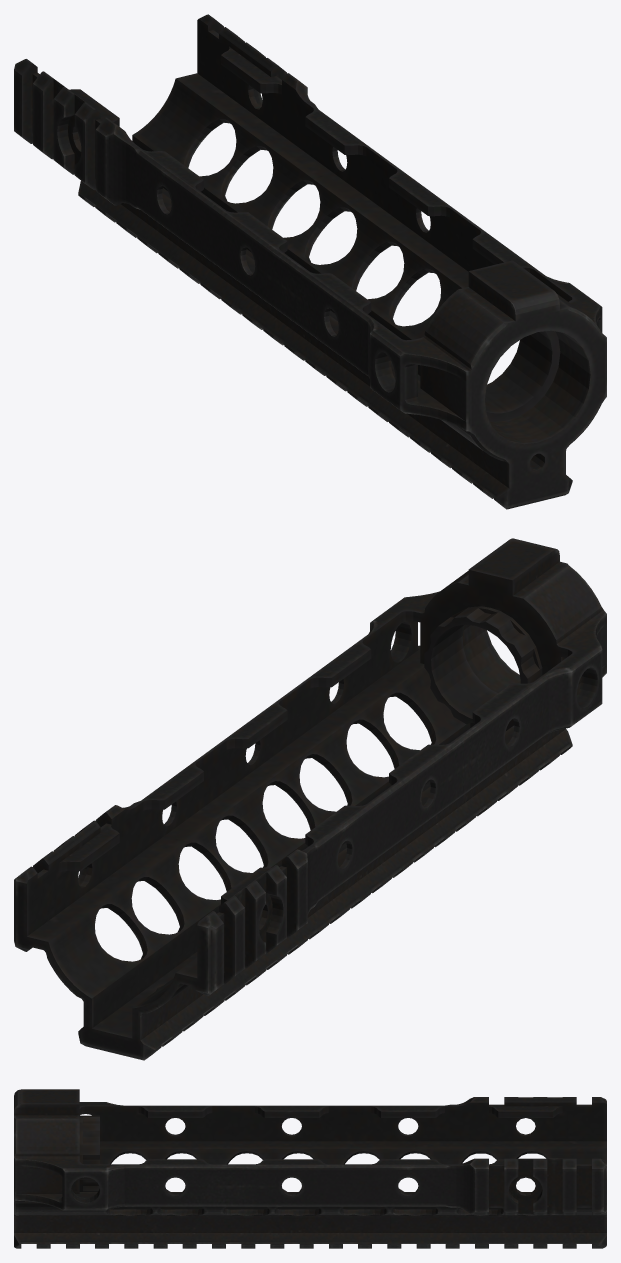
The picture shows the model from 3 angles, top to bottom: view 1: azimuth 30°, elevation 25°; view 2: azimuth 150°, elevation 25°; view 3: azimuth 270°, elevation 25°; orthographic projection. The views are drawn at different scales.
Parts seen in each view (by area): view 1: TW_5d123102d7ad1a004e475fe5_PZ_Import; view 2: TW_5d123102d7ad1a004e475fe5_PZ_Import; view 3: TW_5d123102d7ad1a004e475fe5_PZ_Import.
Boxes of the visible parts, bbox=[...] form: TW_5d123102d7ad1a004e475fe5_PZ_Import: bbox=[14, 14, 606, 509]; TW_5d123102d7ad1a004e475fe5_PZ_Import: bbox=[14, 538, 606, 1060]; TW_5d123102d7ad1a004e475fe5_PZ_Import: bbox=[14, 1089, 606, 1248].
Bounding box in the file's own units: 0.0323 × 0.1177 × 0.031.
Materials: 1 (1 with a texture image).
